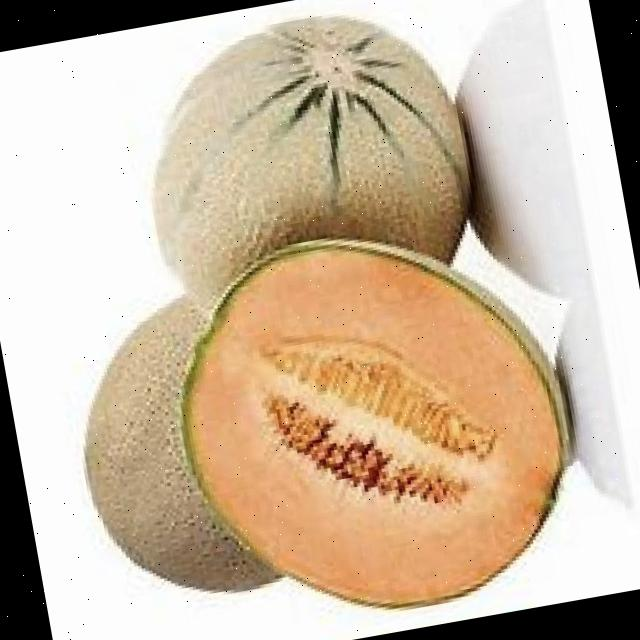Hami Melon: (151, 206, 599, 640), (123, 0, 488, 330), (54, 281, 298, 616)
